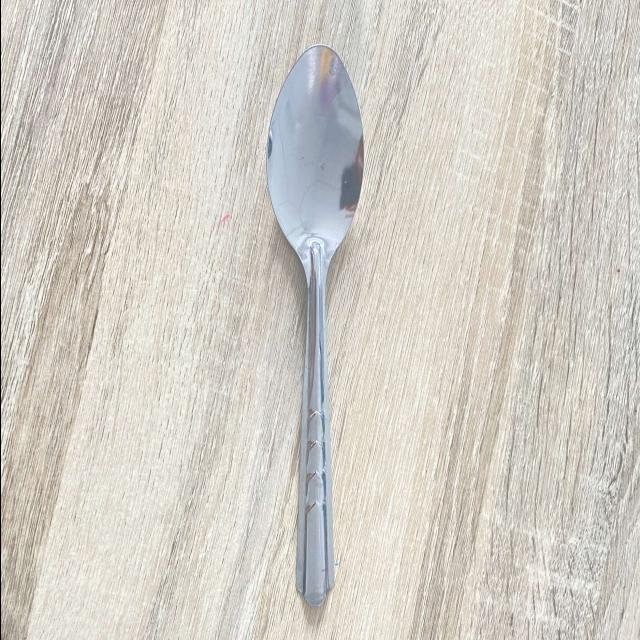spoon: (258, 28, 368, 627)
